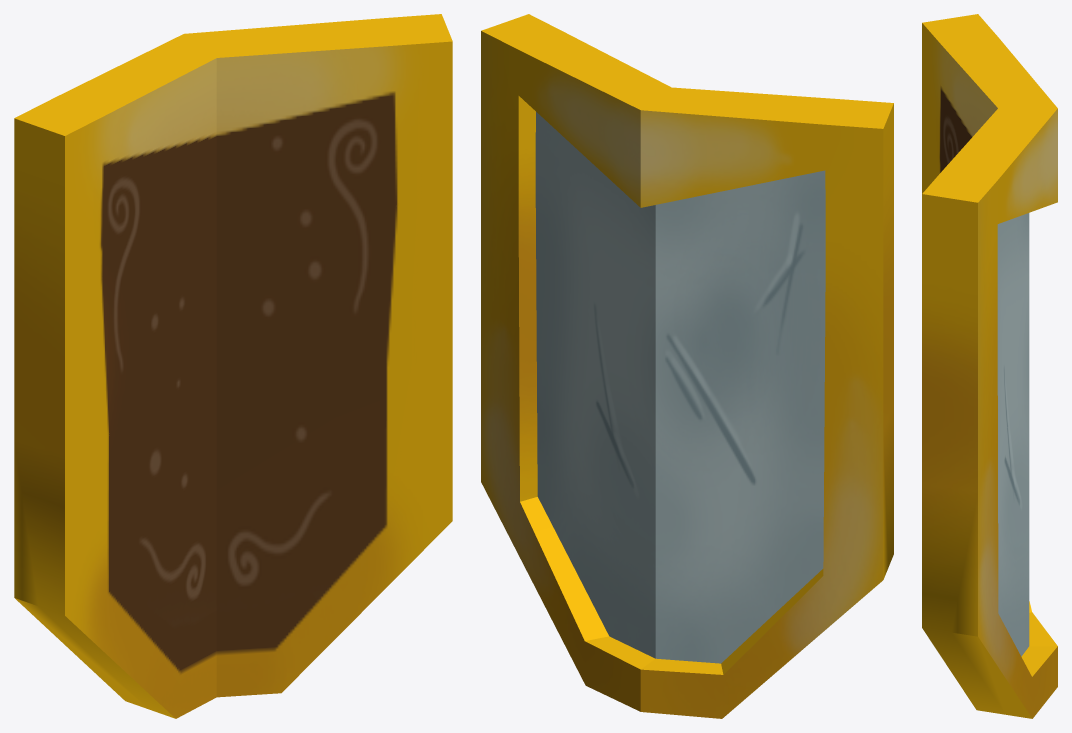
Rendered from knight-shield.fbx.
The picture shows the model from 3 angles, left to right: view 1: azimuth 30°, elevation 25°; view 2: azimuth 150°, elevation 25°; view 3: azimuth 270°, elevation 25°; orthographic projection. The views are drawn at different scales.
Visible parts, largest first — view 1: pCube9; view 2: pCube9; view 3: pCube9.
Part boxes in pixels (x1=…): pCube9: x1=14, y1=14, x2=452, y2=718; pCube9: x1=481, y1=14, x2=893, y2=718; pCube9: x1=922, y1=14, x2=1057, y2=718.
Bounding box in the file's own units: 0.892 × 1.27 × 0.2713.
1 material, 1 textured.
